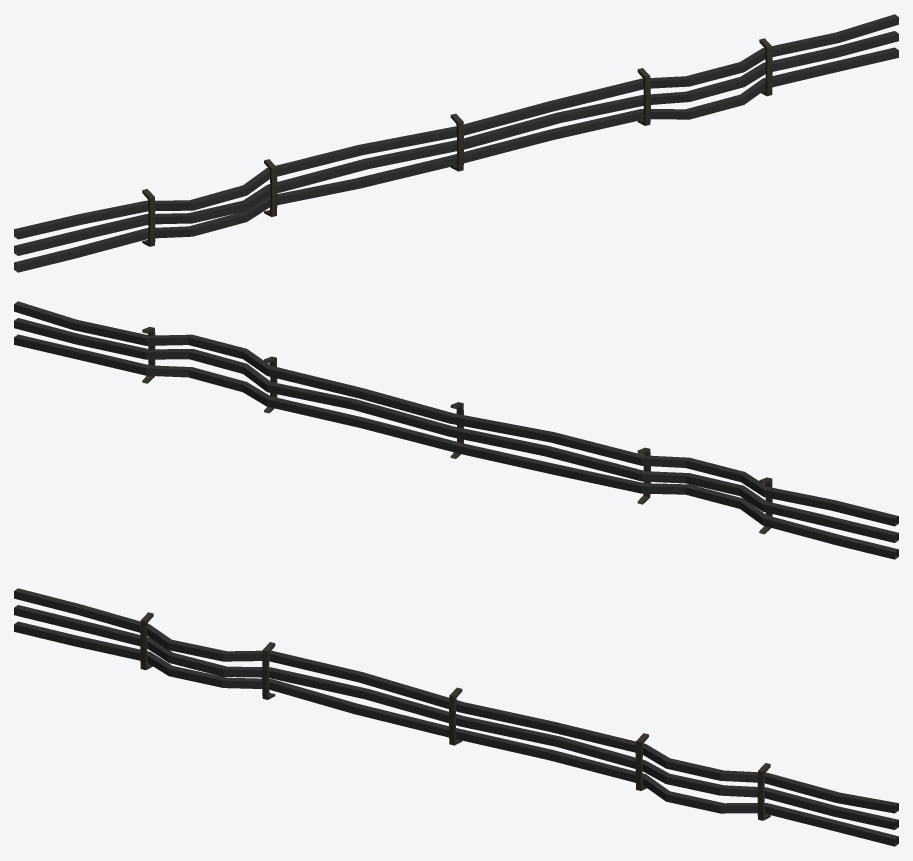
File: SW_ENV_Wires3_RailTunnelWall_01_05m.fbx
3 views of the same model, one above another, from view 1: azimuth 30°, elevation 25°; view 2: azimuth 150°, elevation 25°; view 3: azimuth 330°, elevation 25° (orthographic).
Parts seen in each view (by area): view 1: SW_ENV_Wires3_RailTunnelWall_01_05m; view 2: SW_ENV_Wires3_RailTunnelWall_01_05m; view 3: SW_ENV_Wires3_RailTunnelWall_01_05m.
Boxes of the visible parts, x1,y1,x2,y2 form: SW_ENV_Wires3_RailTunnelWall_01_05m: (14,14,898,272); SW_ENV_Wires3_RailTunnelWall_01_05m: (14,301,898,559); SW_ENV_Wires3_RailTunnelWall_01_05m: (14,588,898,846).
Bounding box in the file's own units: 500 × 28.66 × 15.39.
